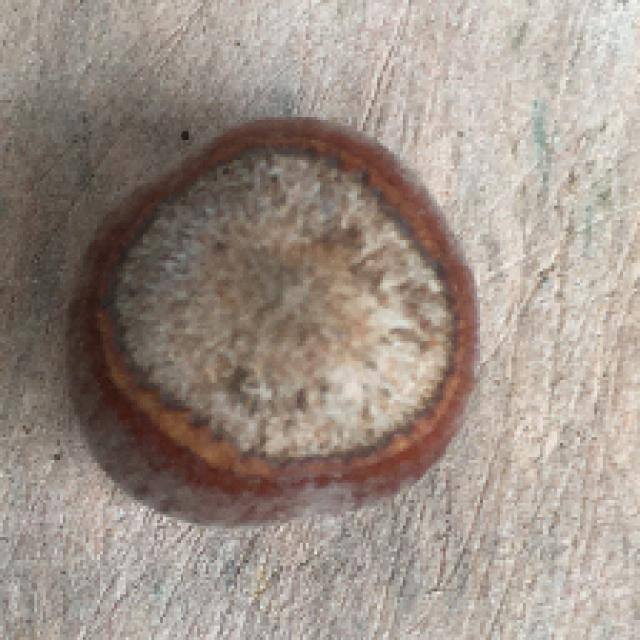qualityHazelnut: (62, 113, 482, 531)
